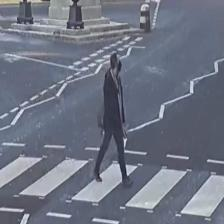person: (94, 53, 132, 185)
